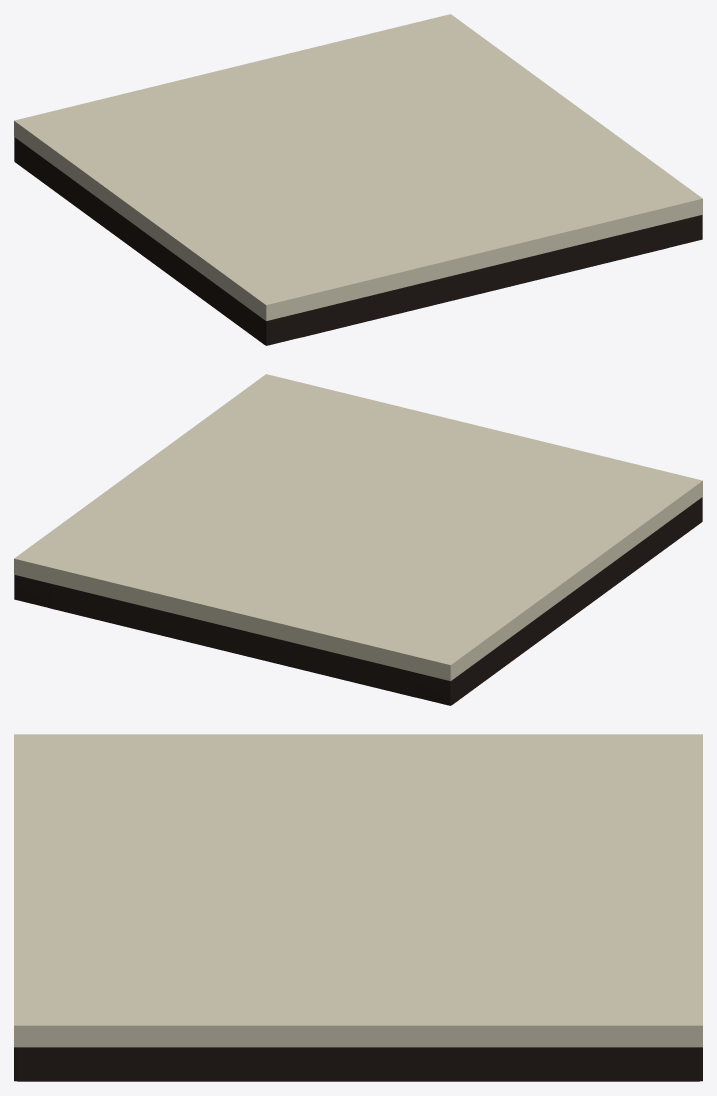
Rendered from Ceiling_Coffer_2m.fbx.
3 renders of one model, top to bottom at view 1: azimuth 30°, elevation 25°; view 2: azimuth 150°, elevation 25°; view 3: azimuth 270°, elevation 25°, orthographic. The views are drawn at different scales.
Visible parts, largest first — view 1: Ceiling plaster.001, Ceiling beam.006, Ceiling beam.004, Ceiling beam.005; view 2: Ceiling plaster.001, Ceiling beam.007, Ceiling beam.004, Ceiling beam.005; view 3: Ceiling plaster.001, Ceiling beam.005.
Part boxes in pixels (x1,y1,x2,y2): Ceiling plaster.001: (14, 14, 702, 320); Ceiling beam.006: (300, 223, 668, 337); Ceiling beam.004: (14, 137, 300, 345); Ceiling beam.005: (668, 215, 702, 247); Ceiling plaster.001: (14, 374, 702, 680); Ceiling beam.007: (48, 583, 416, 697); Ceiling beam.004: (416, 497, 702, 705); Ceiling beam.005: (14, 575, 48, 607); Ceiling plaster.001: (14, 734, 702, 1047); Ceiling beam.005: (14, 1047, 702, 1081).
Size of the model in its own units: 2 by 0.18 by 2.
